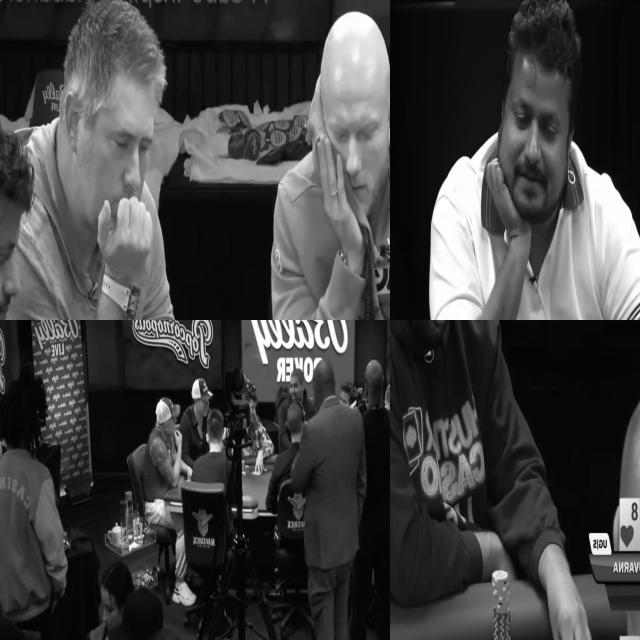8H: (621, 500, 639, 549)
